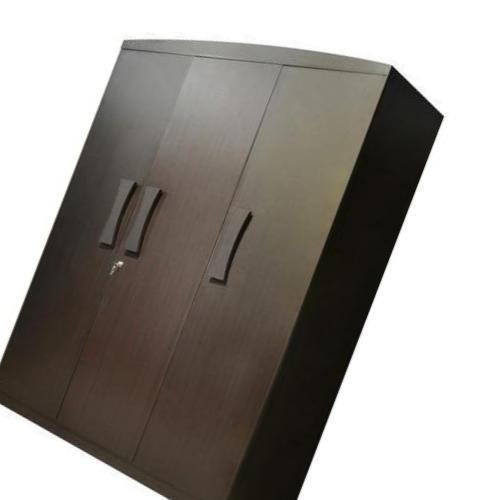Armario: (3, 33, 442, 494)
